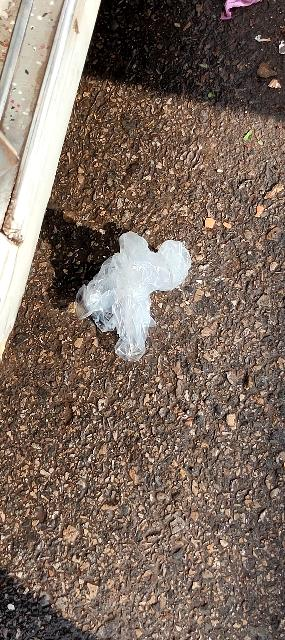polythene: (41, 183, 231, 381)
